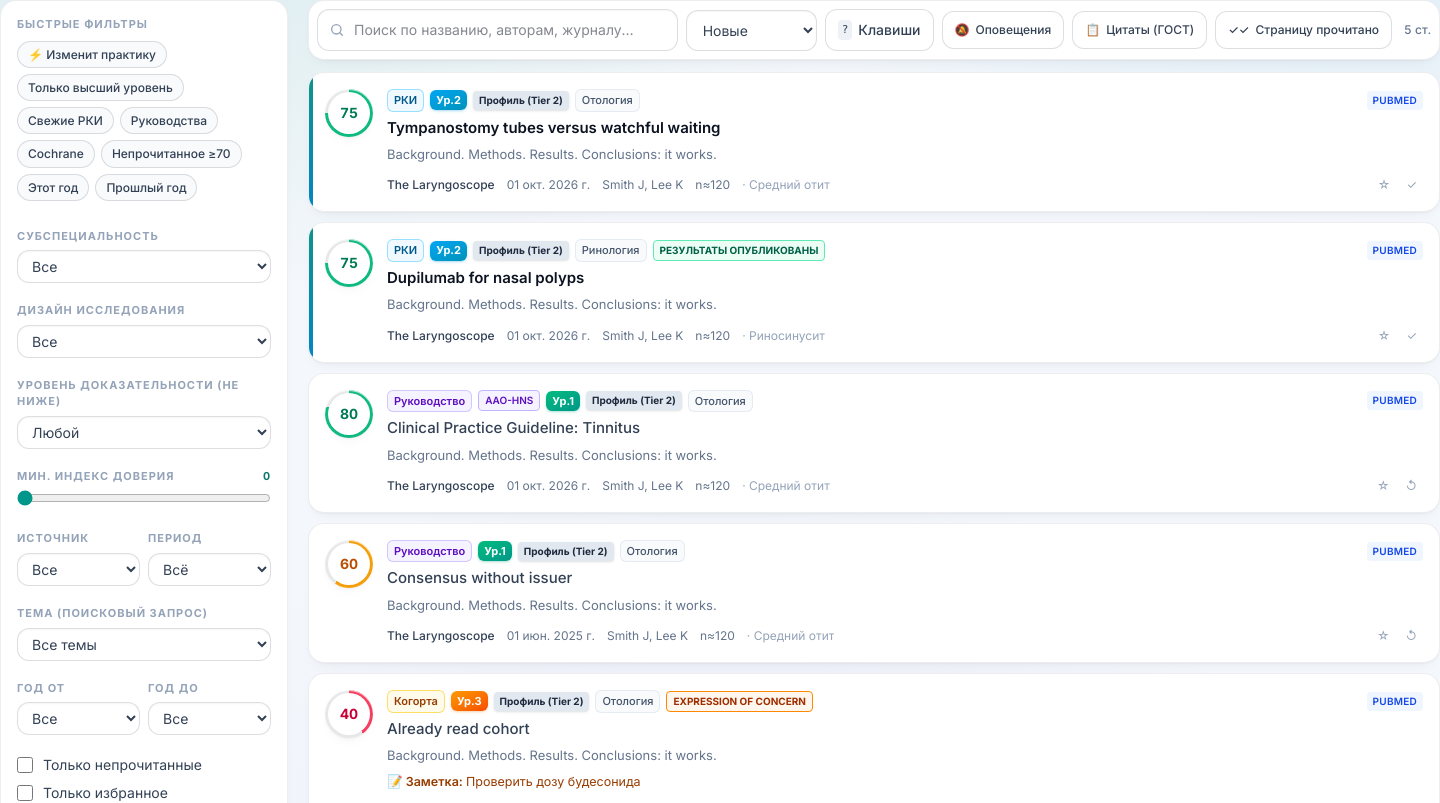
Test case: <Feed /> › «Страницу прочитано» отправляет только непрочитанные id одним запросом и обновляет список оптимистично
Click the button "✓✓ Страницу прочитано": {"x": 1304, "y": 30} [1215,11,1392,49]
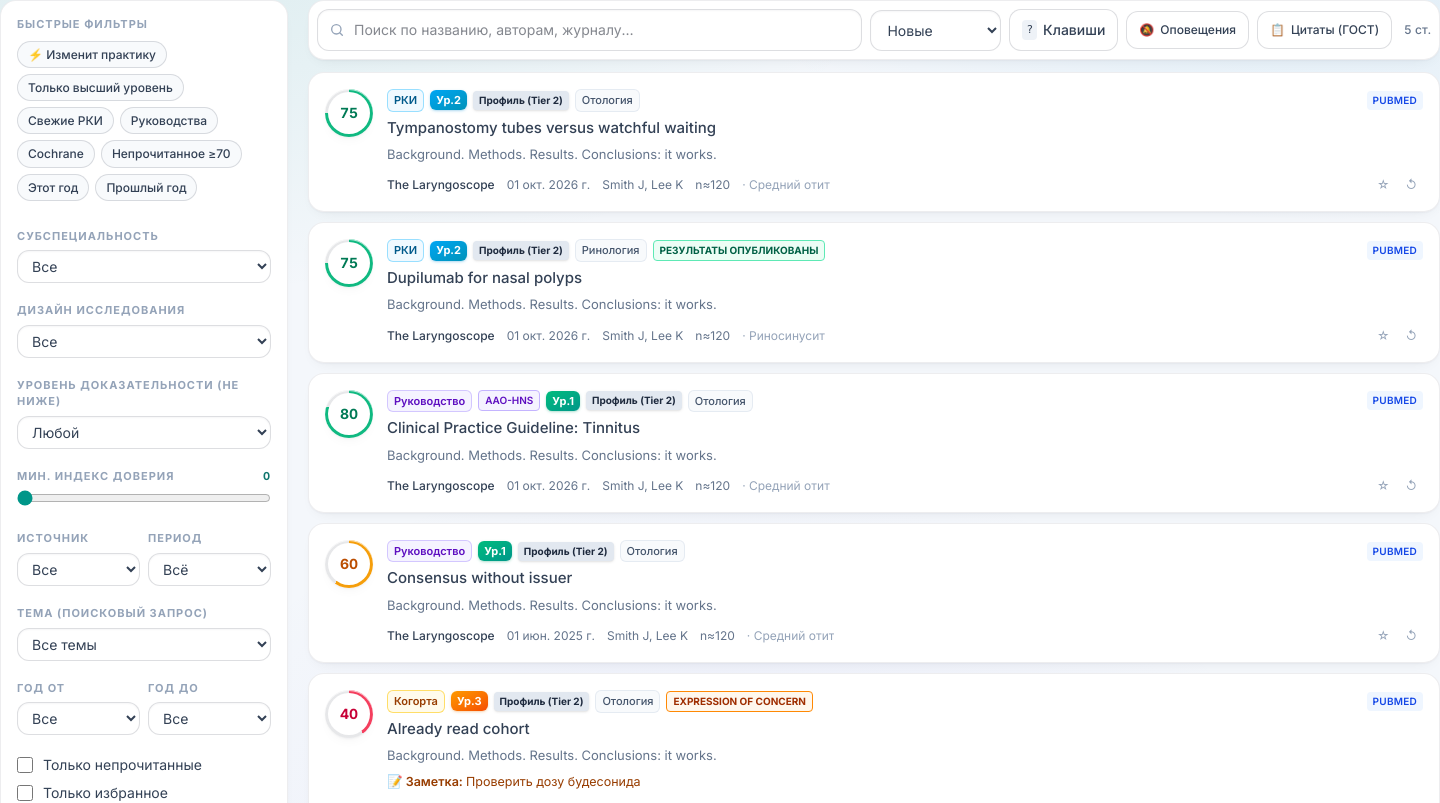
Result: the button "Страницу прочитано" is gone
